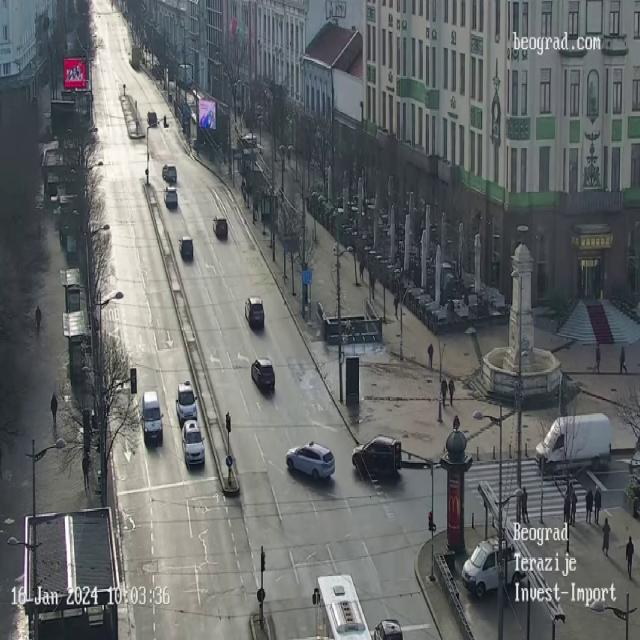bus: (316, 575, 369, 640)
car: (461, 535, 527, 599), (539, 415, 611, 470), (351, 434, 402, 479), (285, 440, 335, 481), (140, 390, 164, 448), (182, 422, 202, 467), (176, 380, 196, 425), (251, 357, 275, 392), (244, 296, 264, 330), (374, 619, 404, 639), (178, 236, 193, 261), (212, 216, 228, 239), (164, 164, 178, 180), (166, 188, 175, 209)
